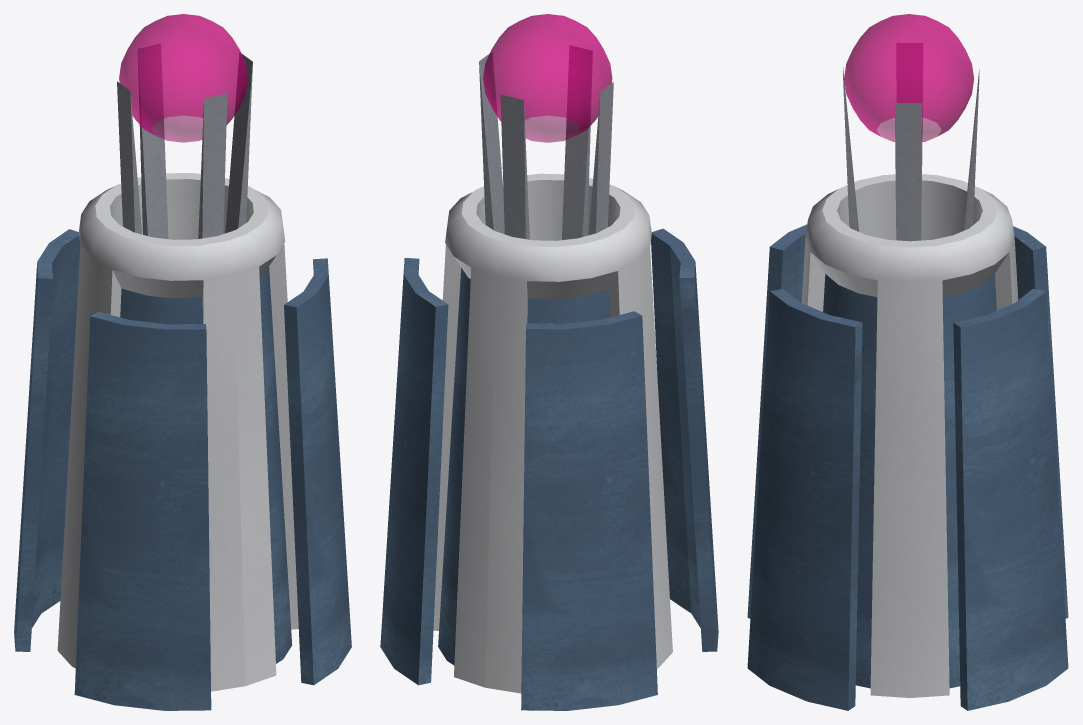
File: beam04.fbx
The picture shows the model from 3 angles, left to right: view 1: azimuth 30°, elevation 25°; view 2: azimuth 150°, elevation 25°; view 3: azimuth 270°, elevation 25°; orthographic projection.
Parts seen in each view (by area): view 1: polySurface105, polySurface114; view 2: polySurface105, polySurface114; view 3: polySurface105, polySurface114.
Part boxes in pixels (x1,y1,x2,y2): polySurface105: (14,44,351,710); polySurface114: (119,14,248,142); polySurface105: (380,46,718,710); polySurface114: (483,14,612,142); polySurface105: (747,43,1068,710); polySurface114: (844,14,973,141).
Size of the model in its own units: 13.16 by 28.3 by 13.16.
